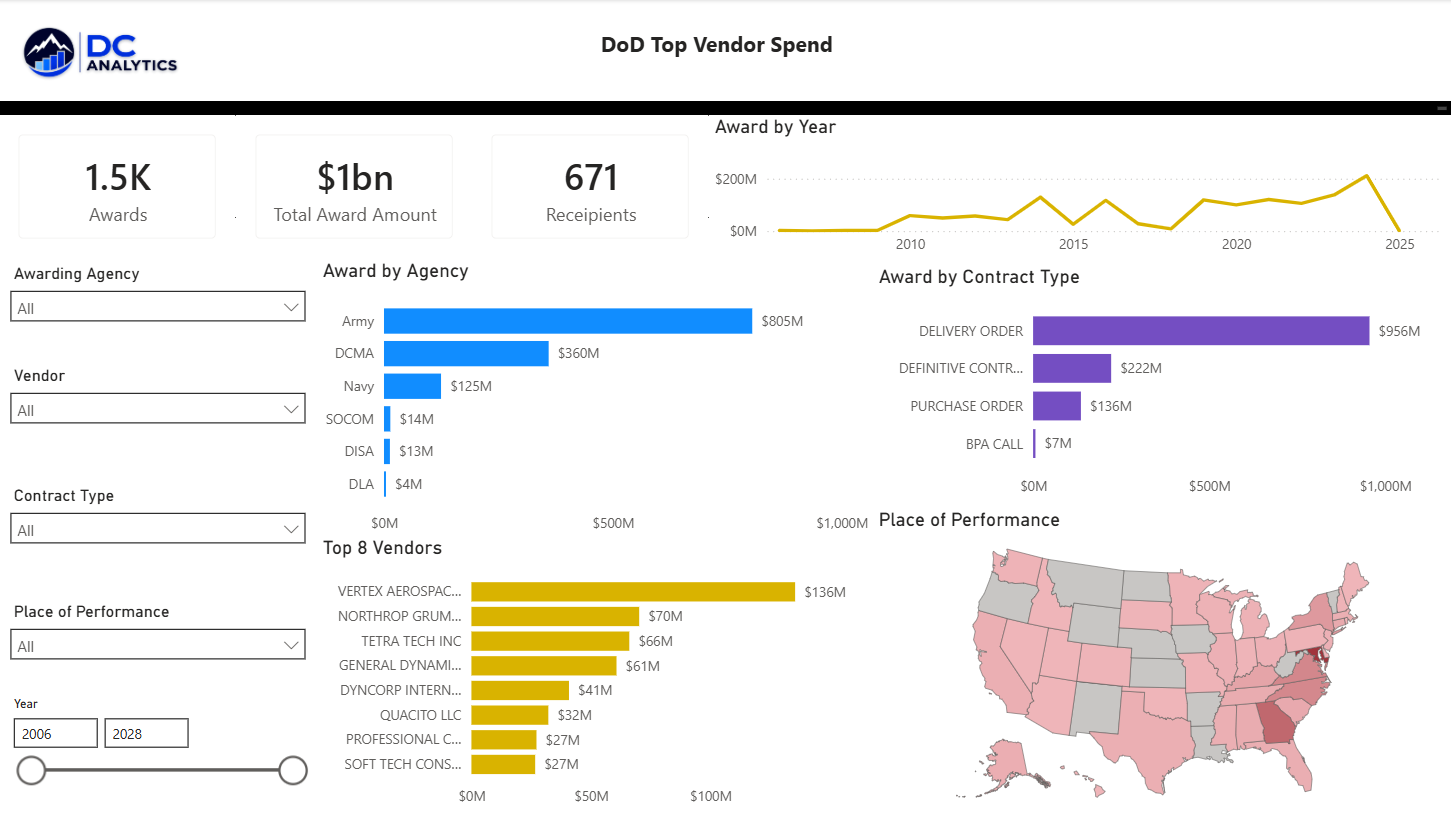

The page's visual inventory and layout, read from the dashboard file:
{"tool":"powerbi","page":{"name":"Page 1","canvas":[1280,720],"ordinal":0},"visuals":[{"type":"textbox","box":[0,0,1280,96],"z":0},{"type":"barChart","title":"Award by Agency","fields":{"Y":["Sum(govcon   main   fact_awards (2).award_amount)"],"Category":["dim_agencies.Sub Agency Short"]},"box":[279.8,228.6,490.1,250.5],"z":1000},{"type":"textbox","box":[0,89.5,1280.1,13],"z":2000},{"type":"image","box":[0,0,177.4,96],"z":3000},{"type":"textbox","box":[524.8,21.9,229.5,53],"z":4000},{"type":"cardVisual","fields":{"Data":["Sum(govcon   main   stg_awards (2).award_amount)"]},"box":[208.5,102.4,208.5,126.3],"z":5000},{"type":"cardVisual","fields":{"Data":["CountNonNull(govcon   main   fact_awards (2).award_id)"]},"box":[0,102.4,208.5,126.2],"z":6000},{"type":"cardVisual","fields":{"Data":["Count(govcon   main   stg_awards (2).recipient_name)"]},"box":[416.9,102.5,208.3,126.1],"z":7000},{"type":"slicer","fields":{"Values":["dim_agencies.Sub Agency Short"]},"box":[0,229,280.1,89.8],"z":8000},{"type":"slicer","fields":{"Values":["stg_awards.recipient_name"]},"box":[0,318.8,280.1,105.7],"z":9000},{"type":"slicer","fields":{"Values":["dim_time.year"]},"box":[0,609.5,280.1,111],"z":10000},{"type":"barChart","title":"Top 8 Vendors","fields":{"Y":["Sum(stg_awards.award_amount)"],"Category":["stg_awards.recipient_name"]},"box":[279.8,472.7,490.1,247.8],"z":11000},{"type":"lineChart","title":"Award by Year","fields":{"Category":["dim_time.year"],"Y":["Sum(stg_awards.award_amount)"]},"box":[625.3,102.5,654.7,132.2],"z":12000},{"type":"shapeMap","title":"Place of Performance","fields":{"Category":["fact_awards.pop_state"],"Value":["CountNonNull(fact_awards.vendor_id)"]},"box":[769.8,448,510.2,272],"z":13000},{"type":"barChart","title":"Award by Contract Type","fields":{"Y":["Sum(govcon   main   fact_awards (2).award_amount)"],"Category":["fact_awards.contract_award_type"]},"box":[769.8,234.7,510.2,213.3],"z":14000},{"type":"slicer","fields":{"Values":["fact_awards.contract_award_type"]},"box":[0,424.5,280.1,102.2],"z":15000},{"type":"slicer","fields":{"Values":["fact_awards.pop_state"]},"box":[0,526.7,280.1,89],"z":16000}]}

Visuals, with their boxes in screenshot pixels (x1, y1, x2, y2), scaled from the page's 1280x720 canvas onto the 1451x815 screenshot:
textbox: left=0, top=0, right=1450, bottom=109
"Award by Agency" barChart: left=317, top=259, right=873, bottom=542
textbox: left=0, top=101, right=1450, bottom=116
image: left=0, top=0, right=201, bottom=109
textbox: left=595, top=25, right=855, bottom=85
cardVisual - Sum(govcon   main   stg_awards (2).award_amount): left=236, top=116, right=473, bottom=259
cardVisual - CountNonNull(govcon   main   fact_awards (2).award_id): left=0, top=116, right=236, bottom=259
cardVisual - Count(govcon   main   stg_awards (2).recipient_name): left=473, top=116, right=709, bottom=259
slicer - dim_agencies.Sub Agency Short: left=0, top=259, right=318, bottom=361
slicer - stg_awards.recipient_name: left=0, top=361, right=318, bottom=481
slicer - dim_time.year: left=0, top=690, right=318, bottom=814
"Top 8 Vendors" barChart: left=317, top=535, right=873, bottom=814
"Award by Year" lineChart: left=709, top=116, right=1450, bottom=266
"Place of Performance" shapeMap: left=873, top=507, right=1450, bottom=814
"Award by Contract Type" barChart: left=873, top=266, right=1450, bottom=507
slicer - fact_awards.contract_award_type: left=0, top=481, right=318, bottom=596
slicer - fact_awards.pop_state: left=0, top=596, right=318, bottom=697
